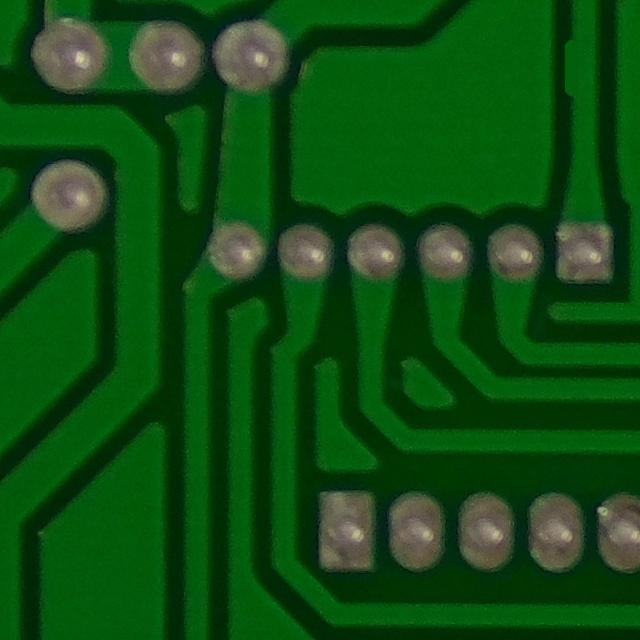spur: (552, 18, 606, 123)
